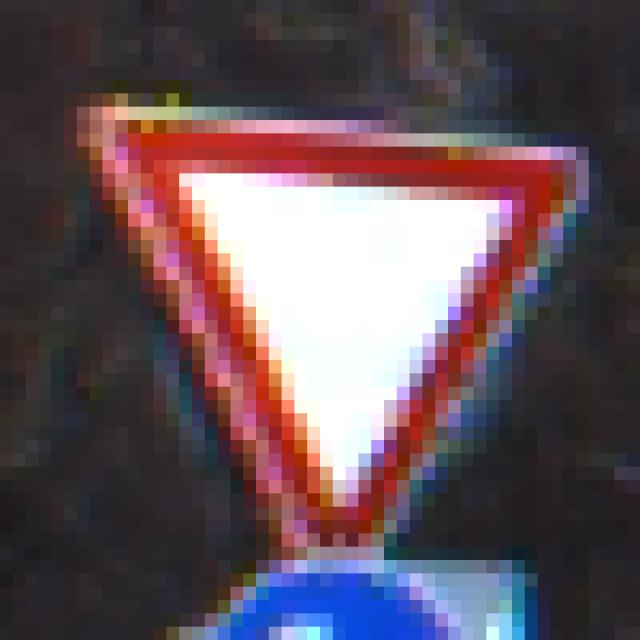Give Way: (78, 81, 577, 574)
